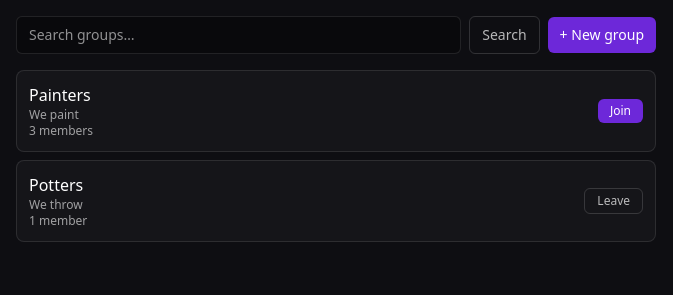
GroupsPage › shows an action error without losing the list
The image size is (673, 295).
Step 1. Click the button "Join" → (620, 111), box [598,99,643,123]
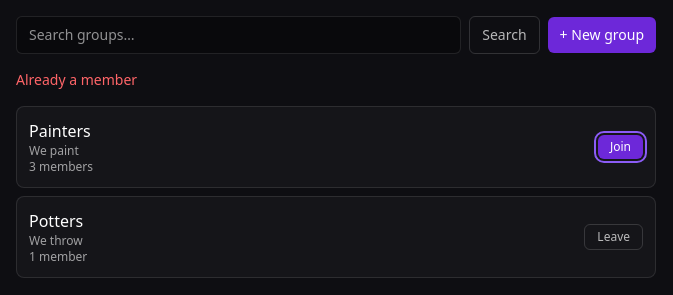
Expected: the link "Painters" is shown, [29,120,91,142]
Now the text "Already a member" is shown, box [16,70,137,89]
